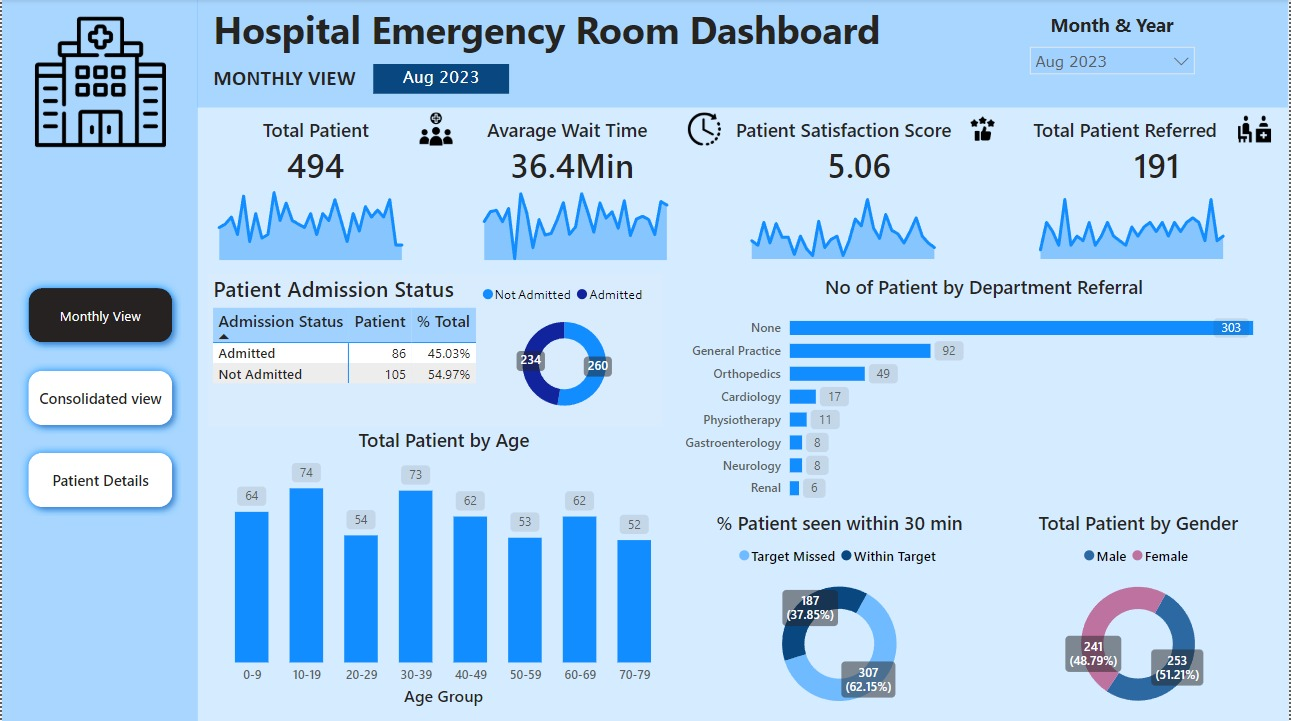

The page's visual inventory and layout, read from the dashboard file:
{"tool":"powerbi","page":{"name":"Monthly View","canvas":[1280,720],"ordinal":0},"visuals":[{"type":"shape","box":[0,0,194.9,720.4],"z":0},{"type":"shape","box":[194.1,0,1086,108.2],"z":1000},{"type":"textbox","box":[205.3,0,803.6,61],"z":2000},{"type":"textbox","box":[205.3,61,386.9,36.1],"z":3000},{"type":"areaChart","title":"Total Patient by Day","fields":{"Category":["Date Table.Date.Variation.Date Hierarchy.Day"],"Y":["Hospital ER_Data.Total_Patient"]},"box":[195.3,175.4,267.5,84.6],"z":4000},{"type":"card","title":"Avarage Wait Time","fields":{"Values":["Hospital ER_Data.Avarage Wait Time"]},"box":[477.7,108.2,180.4,79.6],"z":5000},{"type":"areaChart","title":"Avg Wait Time","fields":{"Category":["Date Table.Date.Variation.Date Hierarchy.Day"],"Y":["Avg(Hospital ER_Data.Patient Waittime)"]},"box":[459,175.4,267.5,84.6],"z":6000},{"type":"areaChart","title":"Avg Wait Time","fields":{"Category":["Date Table.Date.Variation.Date Hierarchy.Day"],"Y":["Sum(Hospital ER_Data.Patient Satisfaction Score)"]},"box":[725.2,176.6,267.5,83.3],"z":7000},{"type":"card","title":"Patient Satisfaction Score","fields":{"Values":["Avg(Hospital ER_Data.Patient Satisfaction Score)"]},"box":[725.2,108.2,256.3,79.6],"z":8000},{"type":"card","title":"Total Patient Referred","fields":{"Values":["Hospital ER_Data.No of Patient Referred"]},"box":[1021.3,108.2,256.3,79.6],"z":9000},{"type":"areaChart","title":"Avg Wait Time","fields":{"Y":["Hospital ER_Data.No of Patient Referred"],"Category":["Date Table.Date.Variation.Date Hierarchy.Day"]},"box":[1012.6,176.6,267.5,83.3],"z":10000},{"type":"card","title":"Total Patient","fields":{"Values":["Hospital ER_Data.Total_Patient"]},"box":[184.1,108.2,256.3,79.6],"z":11000},{"type":"pivotTable","title":"Patient Admission Status","fields":{"Rows":["Hospital ER_Data.Admission Status"],"Values":["Hospital ER_Data.No of Patient Referred","Divide(Hospital ER_Data.No of Patient Referred, ScopedEval(Hospital ER_Data.No of Patient Referred, []))"]},"box":[205.3,273.7,452.8,151.8],"z":12000},{"type":"donutChart","fields":{"Y":["CountNonNull(Hospital ER_Data.Admission Status)"],"Category":["Hospital ER_Data.Admission Status"]},"box":[461.5,273.7,196.5,149.3],"z":13000},{"type":"clusteredColumnChart","title":"Total Patient by Age","fields":{"Category":["Hospital ER_Data.Age Group"],"Y":["Hospital ER_Data.Total_Patient"]},"box":[205.3,425.4,469,283.6],"z":14000},{"type":"barChart","title":"No of Patient by Department Referral","fields":{"Y":["Hospital ER_Data.Total_Patient"],"Category":["Hospital ER_Data.Department Referral"]},"box":[674.2,273.7,605.8,235.1],"z":15000},{"type":"pieChart","title":"% Patient seen within 30 min","fields":{"Category":["Hospital ER_Data.Waittime Status"],"Y":["Hospital ER_Data.Total_Patient"]},"box":[674.2,508.8,318.5,211.5],"z":16000},{"type":"pieChart","title":"Total Patient by Gender","fields":{"Y":["Hospital ER_Data.Total_Patient"],"Category":["Hospital ER_Data.Patient Gender"]},"box":[981.5,508.8,298.6,211.5],"z":17000},{"type":"image","box":[406.8,108.2,51,42.3],"z":18000},{"type":"image","box":[1225.3,108.2,42.3,42.3],"z":19000},{"type":"image","box":[959.1,108.2,33.6,42.3],"z":20000},{"type":"image","box":[673,108.2,52.2,42.3],"z":21000},{"type":"image","box":[0,12.4,195.3,140.6],"z":22000},{"type":"slicer","title":"Month & Year","fields":{"Values":["Date Table.Month & Year"]},"box":[1012.6,12.4,184.1,84.6],"z":23000},{"type":"card","fields":{"Values":["Min(Date Table.Month & Year)"]},"box":[369.5,64.7,135.6,29.9],"z":24000},{"type":"pageNavigator","box":[17.4,278.6,161.7,236.4],"z":25000}]}

Visuals, with their boxes in screenshot pixels (x1, y1, x2, y2), scaled from the page's 1280x720 canvas onto the 1291x721 screenshot:
shape: 0, 0, 197, 720
shape: 196, 0, 1290, 108
textbox: 207, 0, 1018, 61
textbox: 207, 61, 597, 97
"Total Patient by Day" areaChart: 197, 176, 467, 260
"Avarage Wait Time" card: 482, 108, 664, 188
"Avg Wait Time" areaChart: 463, 176, 733, 260
"Avg Wait Time" areaChart: 731, 177, 1001, 260
"Patient Satisfaction Score" card: 731, 108, 990, 188
"Total Patient Referred" card: 1030, 108, 1289, 188
"Avg Wait Time" areaChart: 1021, 177, 1290, 260
"Total Patient" card: 186, 108, 444, 188
"Patient Admission Status" pivotTable: 207, 274, 664, 426
donutChart - CountNonNull(Hospital ER_Data.Admission Status) x Hospital ER_Data.Admission Status: 465, 274, 664, 424
"Total Patient by Age" clusteredColumnChart: 207, 426, 680, 710
"No of Patient by Department Referral" barChart: 680, 274, 1290, 510
"% Patient seen within 30 min" pieChart: 680, 510, 1001, 720
"Total Patient by Gender" pieChart: 990, 510, 1290, 720
image: 410, 108, 462, 151
image: 1236, 108, 1278, 151
image: 967, 108, 1001, 151
image: 679, 108, 731, 151
image: 0, 12, 197, 153
"Month & Year" slicer: 1021, 12, 1207, 97
card - Min(Date Table.Month & Year): 373, 65, 509, 95
pageNavigator: 18, 279, 181, 516
